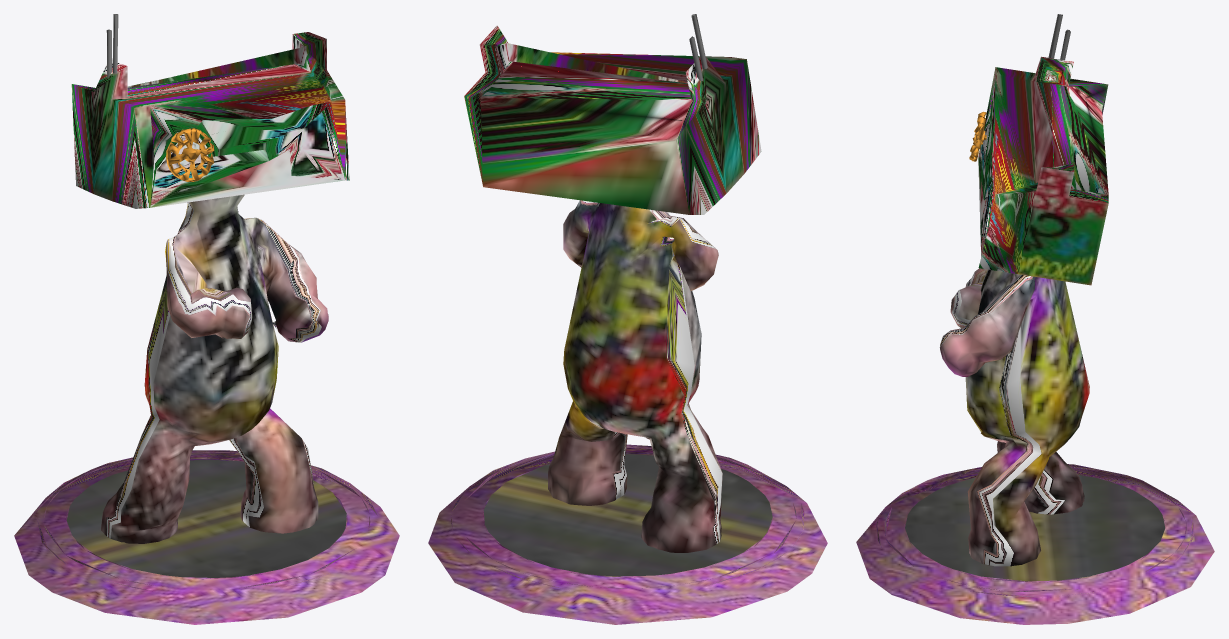
3 renders of one model, left to right at view 1: azimuth 30°, elevation 25°; view 2: azimuth 150°, elevation 25°; view 3: azimuth 270°, elevation 25°, orthographic. The views are drawn at different scales.
Bounding box in the file's own units: 1.44 × 2.22 × 1.44.
Materials: 6 (5 with a texture image).
